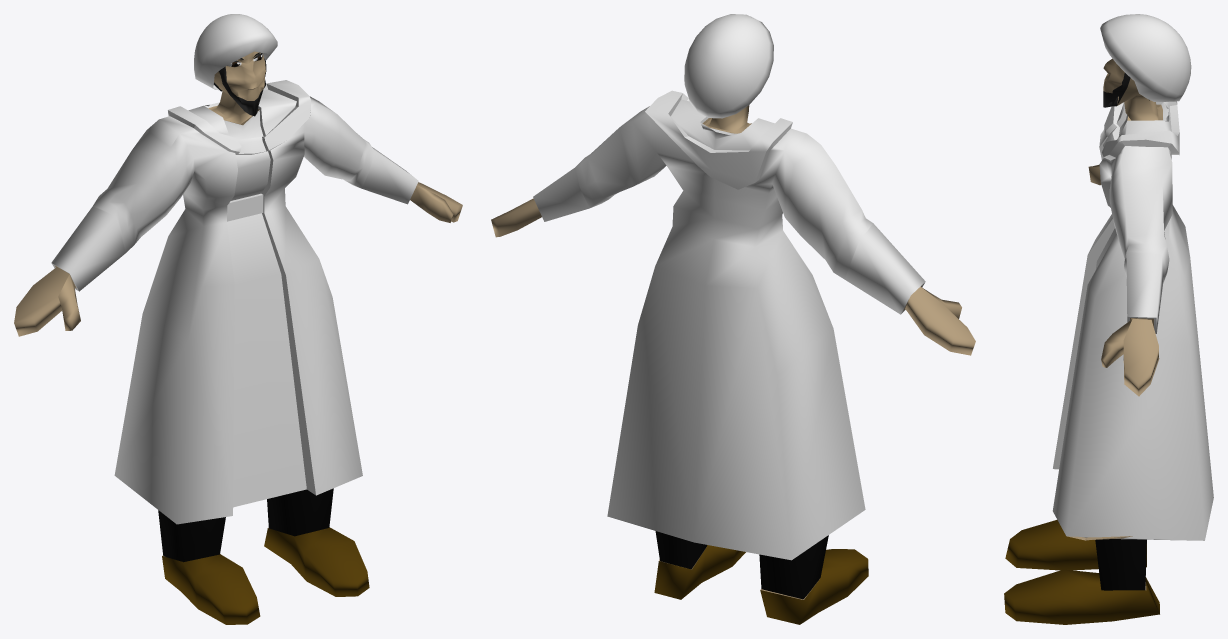
Rendered from Tuanku Imam Bonjol.fbx.
3 renders of one model, left to right at view 1: azimuth 30°, elevation 25°; view 2: azimuth 150°, elevation 25°; view 3: azimuth 270°, elevation 25°, orthographic. The views are drawn at different scales.
Visible parts, largest first — view 1: pCube1, pSphere1; view 2: pCube1, pSphere1; view 3: pCube1, pSphere1.
Part boxes in pixels (x1,y1,x2,y2): pCube1: (14, 51, 462, 624); pSphere1: (194, 14, 277, 90); pCube1: (491, 90, 975, 624); pSphere1: (684, 14, 773, 118); pCube1: (1004, 58, 1213, 624); pSphere1: (1100, 14, 1191, 102).
Size of the model in its own units: 9.67 by 11.22 by 3.74.
